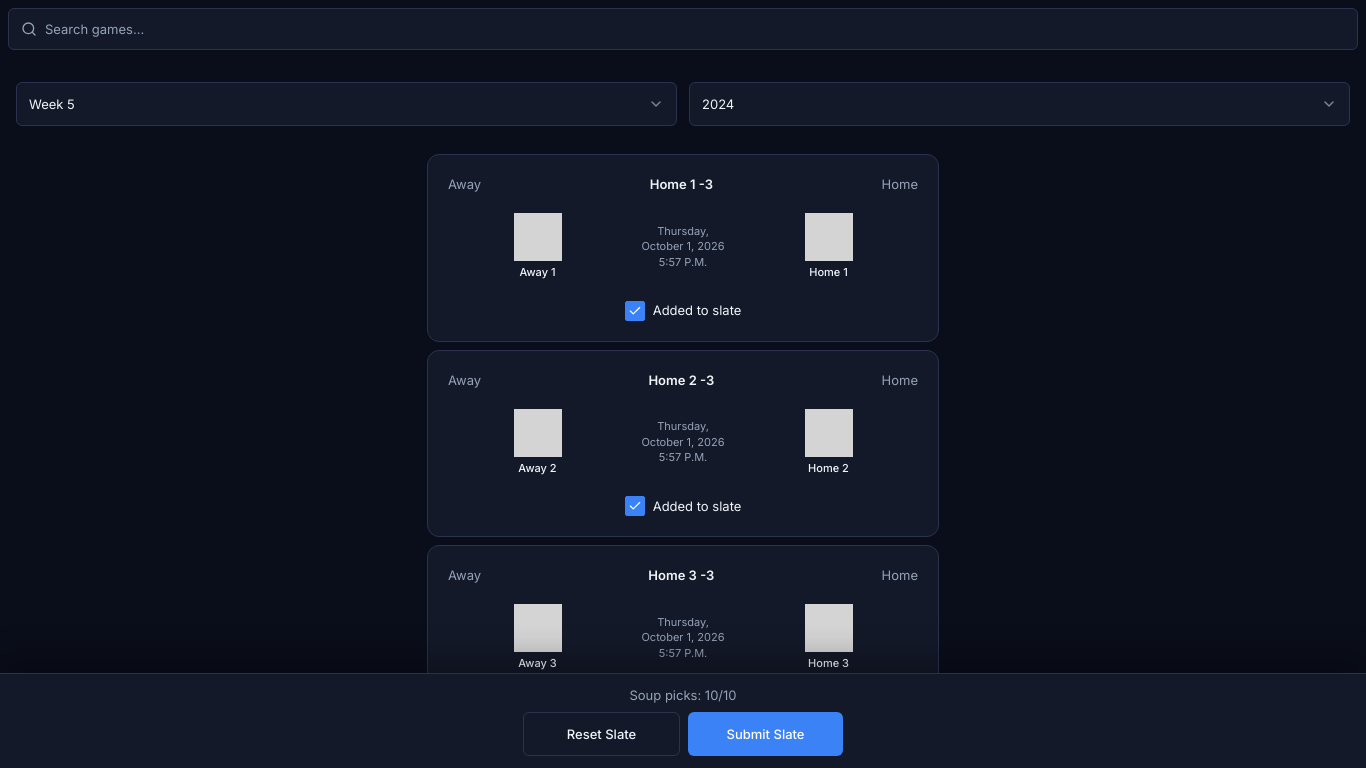
it: submitting a full slate saves it and offers the picks link
The width and height of the screenshot is (1366, 768).
Expected: the text "Soup picks: 10/10" is shown, x1=630 y1=686 x2=737 y2=704
Click the button "Submit Slate": (766,734) x1=688 y1=712 x2=843 y2=756
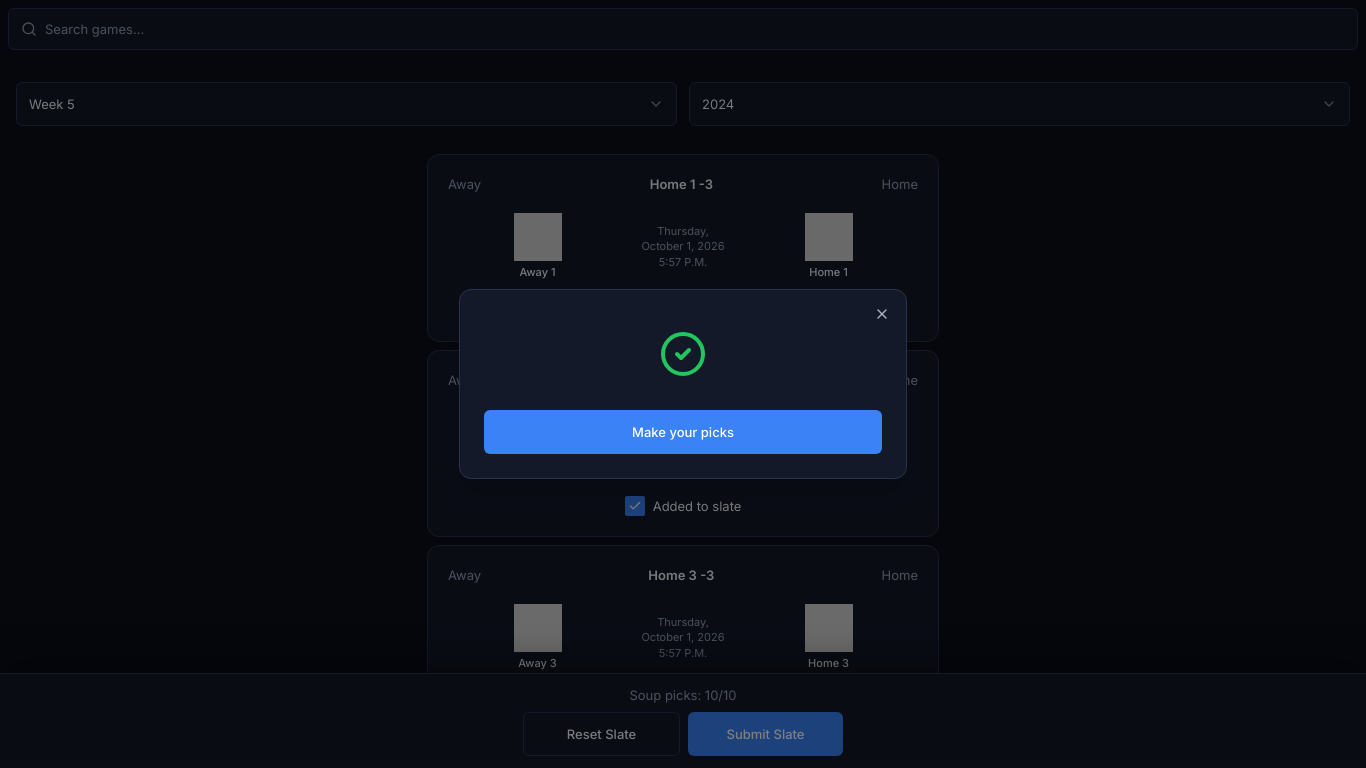
Result: the button "Make your picks" is shown at x1=484 y1=410 x2=882 y2=454
